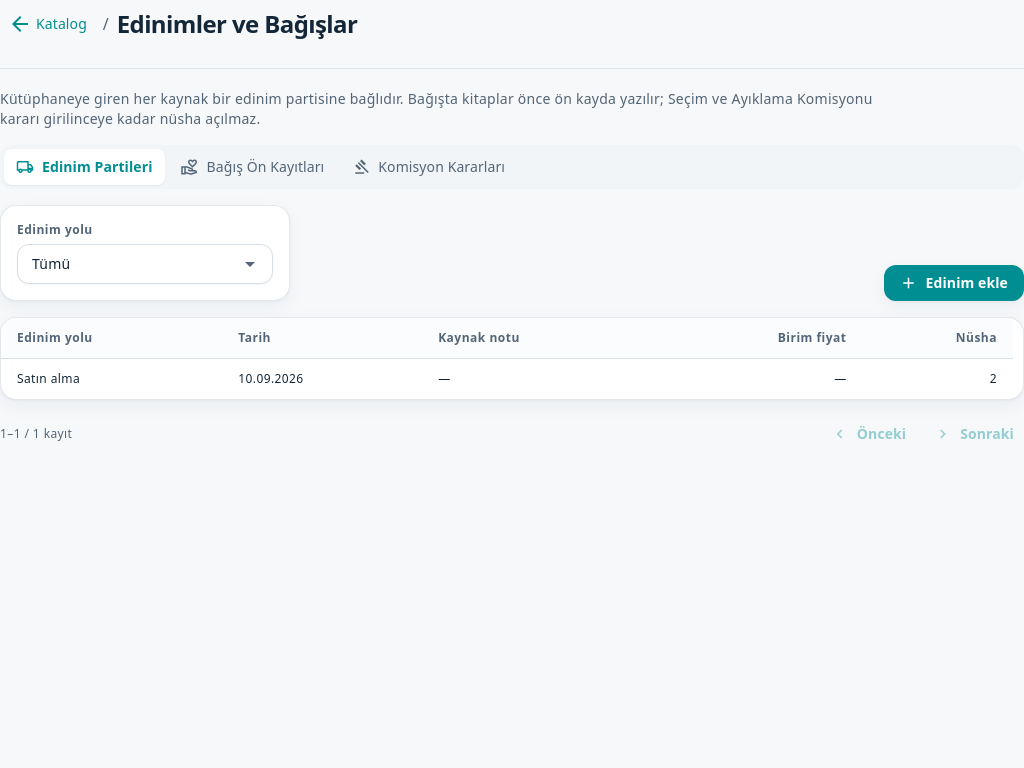
Bağış ön kayıtları › kararı işlenmiş ön kayıtta kalem eklenemez ve karar düğmesi yoktur
The image size is (1024, 768).
Expected: the table is shown, left=1, top=318, right=1013, bottom=399
Click the tab "Bağış Ön Kayıtları": x=252, y=167 left=169, top=149, right=336, bottom=185
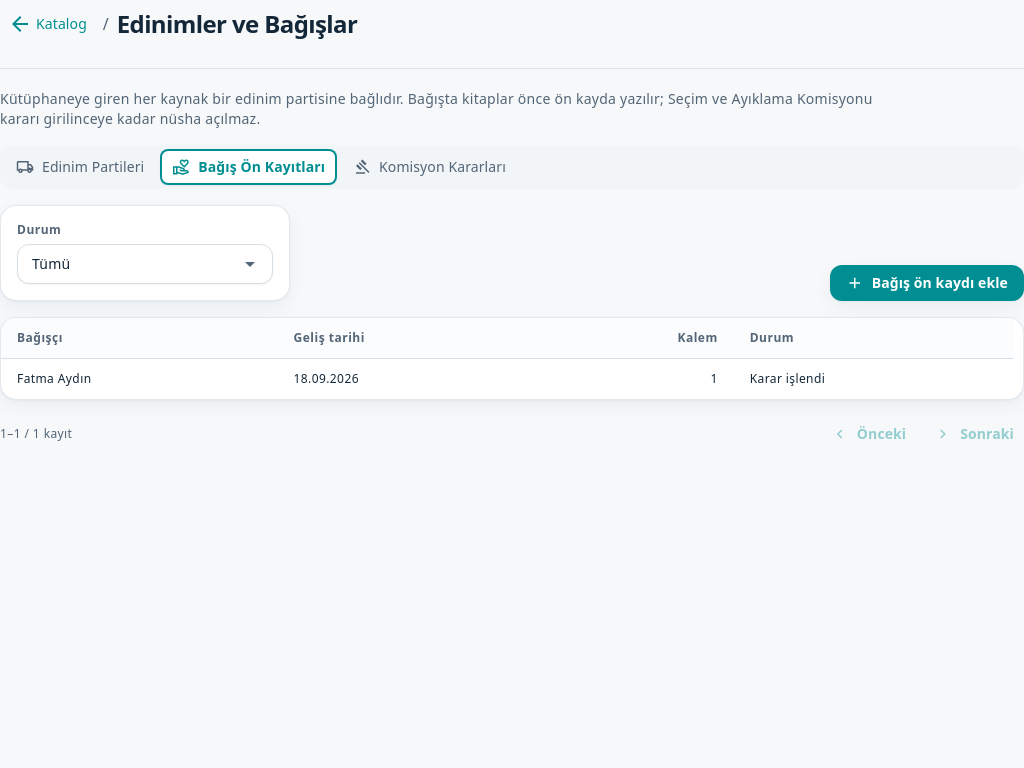
Click the button with aria-label "bağış ön kaydını aç": x=54, y=378 left=1, top=358, right=1013, bottom=399
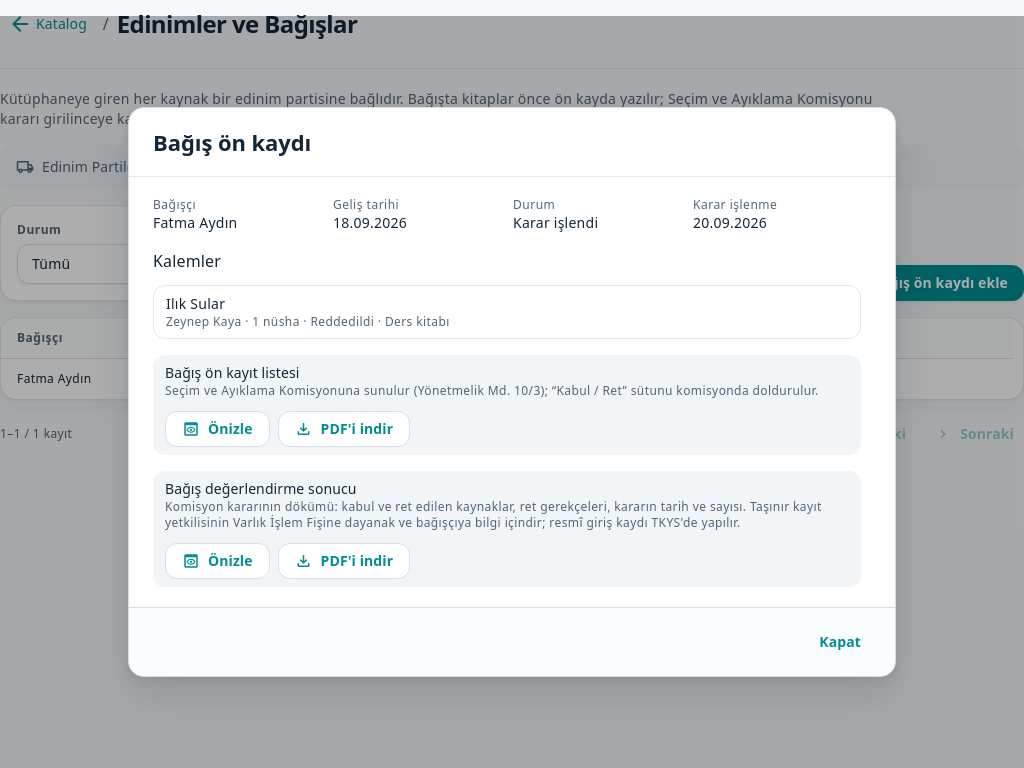
Expected: the text "Zeynep Kaya · 1 nüsha · Reddedildi · Ders kitabı" is shown, left=166, top=313, right=450, bottom=330
